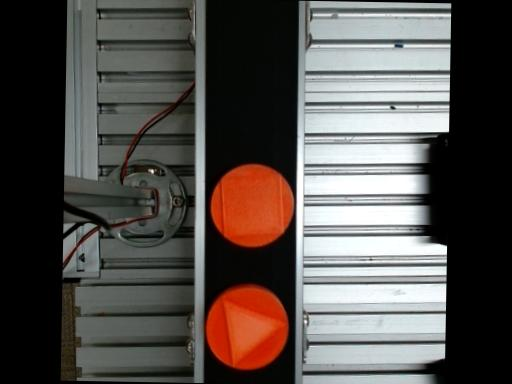Not_Square: (221, 297, 288, 366)
Orange_Waper: (206, 283, 289, 369), (211, 162, 293, 246)
Square: (222, 174, 283, 237)
